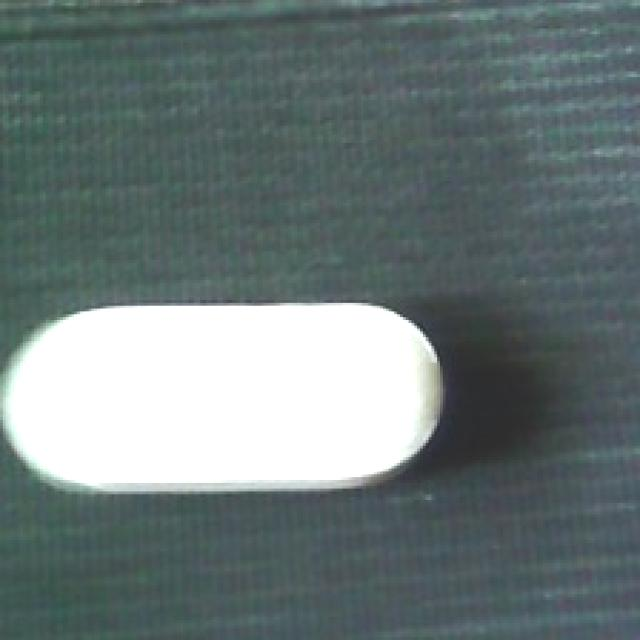no-defect: (3, 289, 448, 497)
